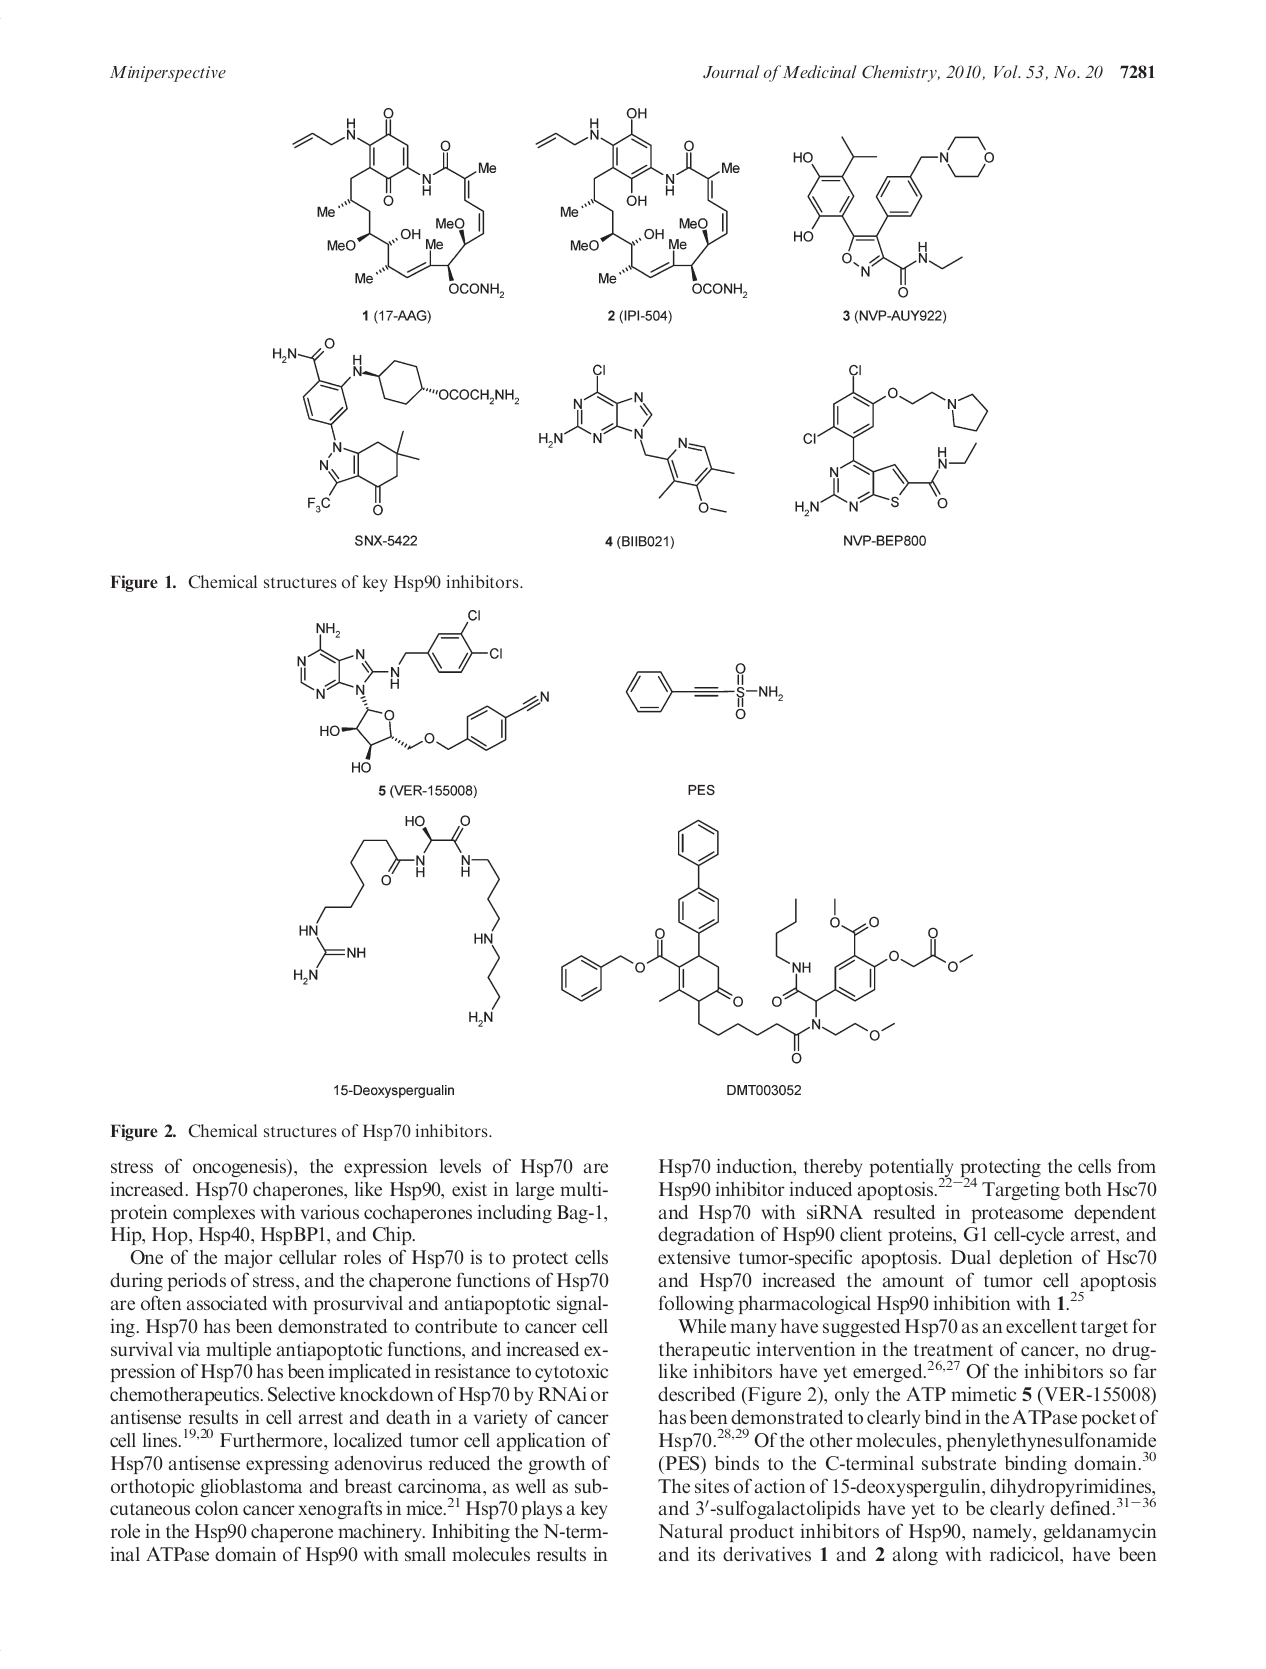exist_molecular: (563, 817, 977, 1069), (270, 326, 517, 521), (293, 805, 505, 1031), (295, 606, 555, 774), (535, 105, 750, 298), (294, 109, 507, 298), (791, 132, 996, 298), (793, 359, 989, 519), (535, 363, 735, 519), (624, 660, 787, 722)
